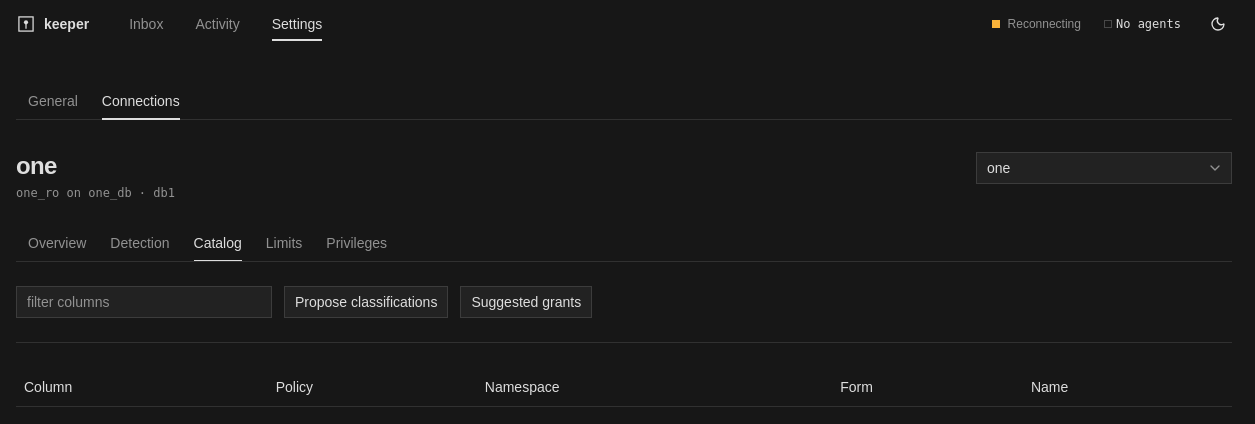
Test case: the shell › SHELL-C4 the header picker switches connection and keeps the tab
The width and height of the screenshot is (1255, 424).
Check: the heading "one" is shown, box [16,152,57,179]
Click the dropdown named "Connection" at [1104, 168], box [976,152,1232,184]
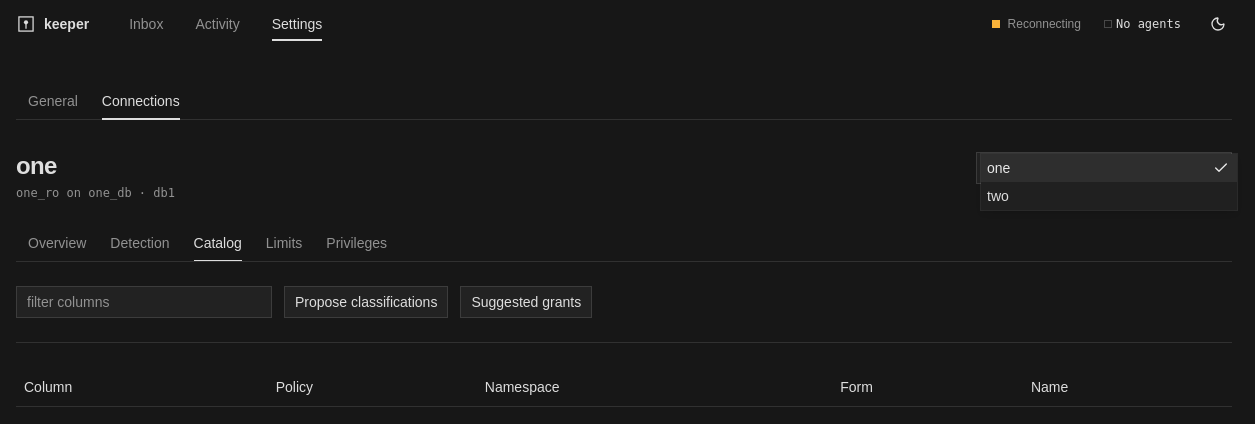
Click the option "two" at [998, 196], box [987,188,1009,204]
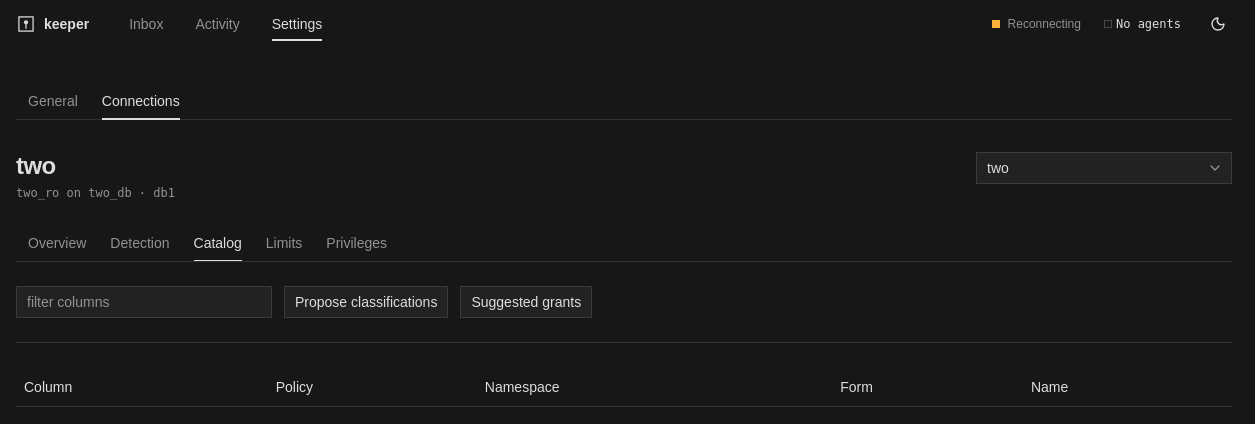
Check: the heading "two" is shown, box [16,152,56,179]
